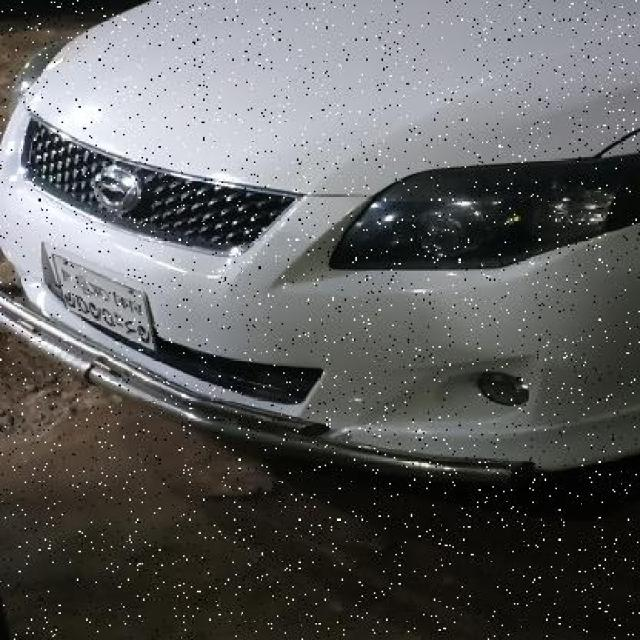numberplate: (45, 251, 157, 351)
